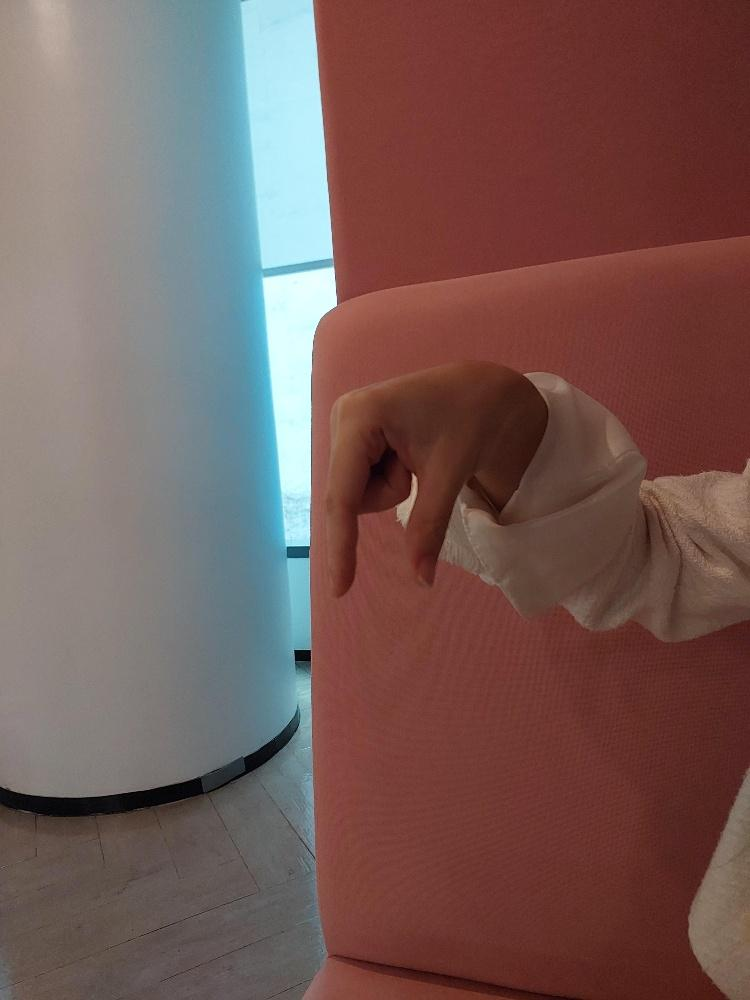q: (325, 359, 491, 598)
